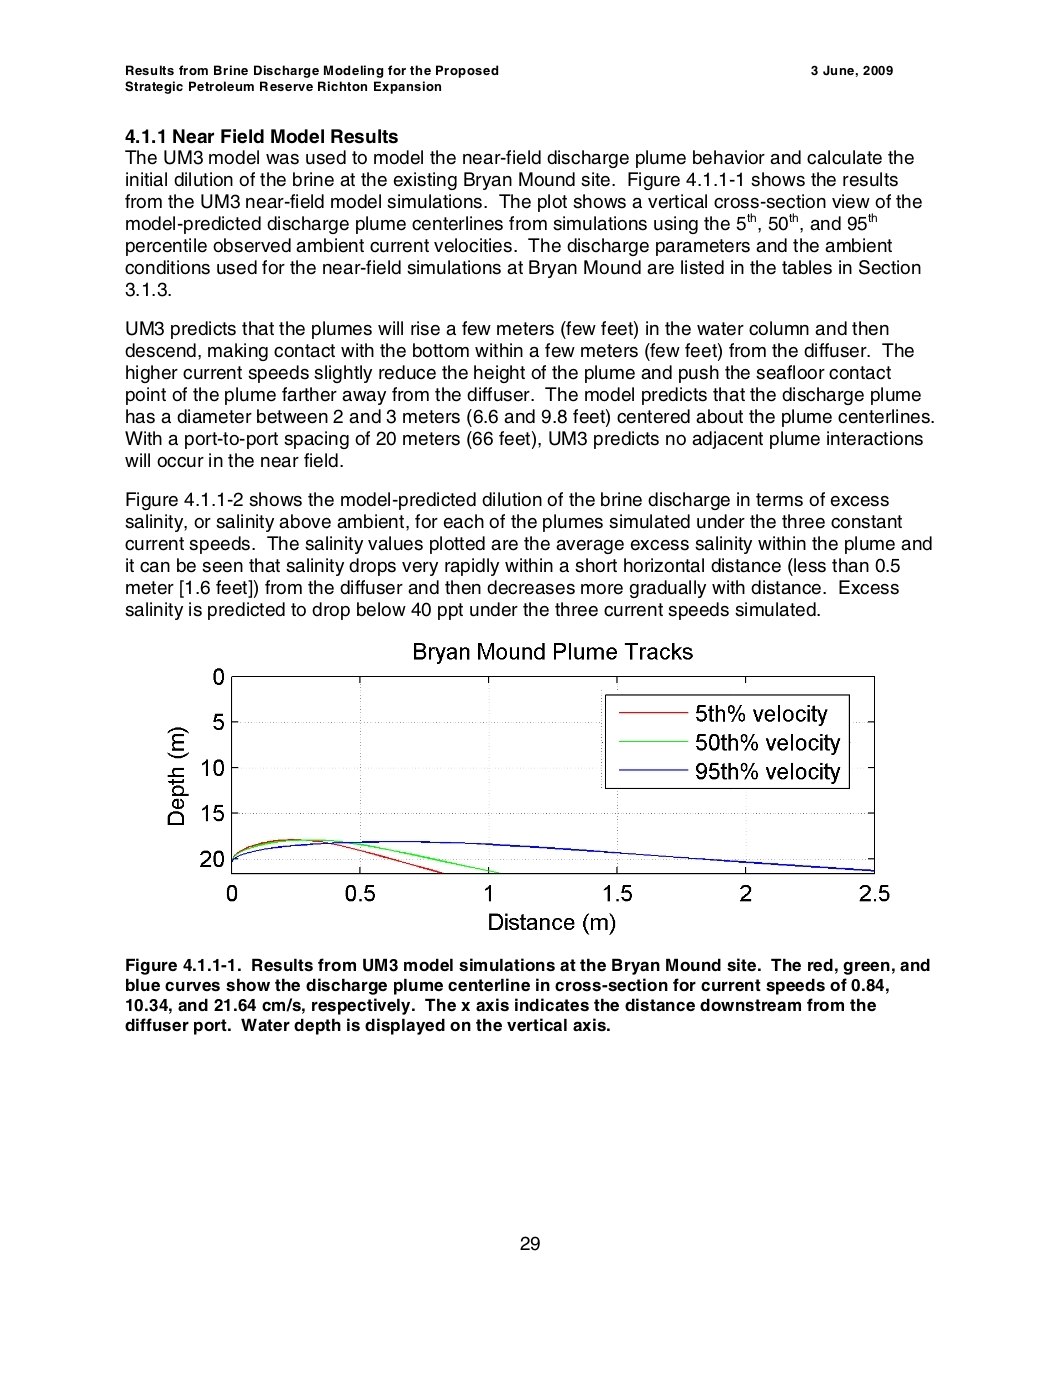figure: (167, 643, 889, 934)
